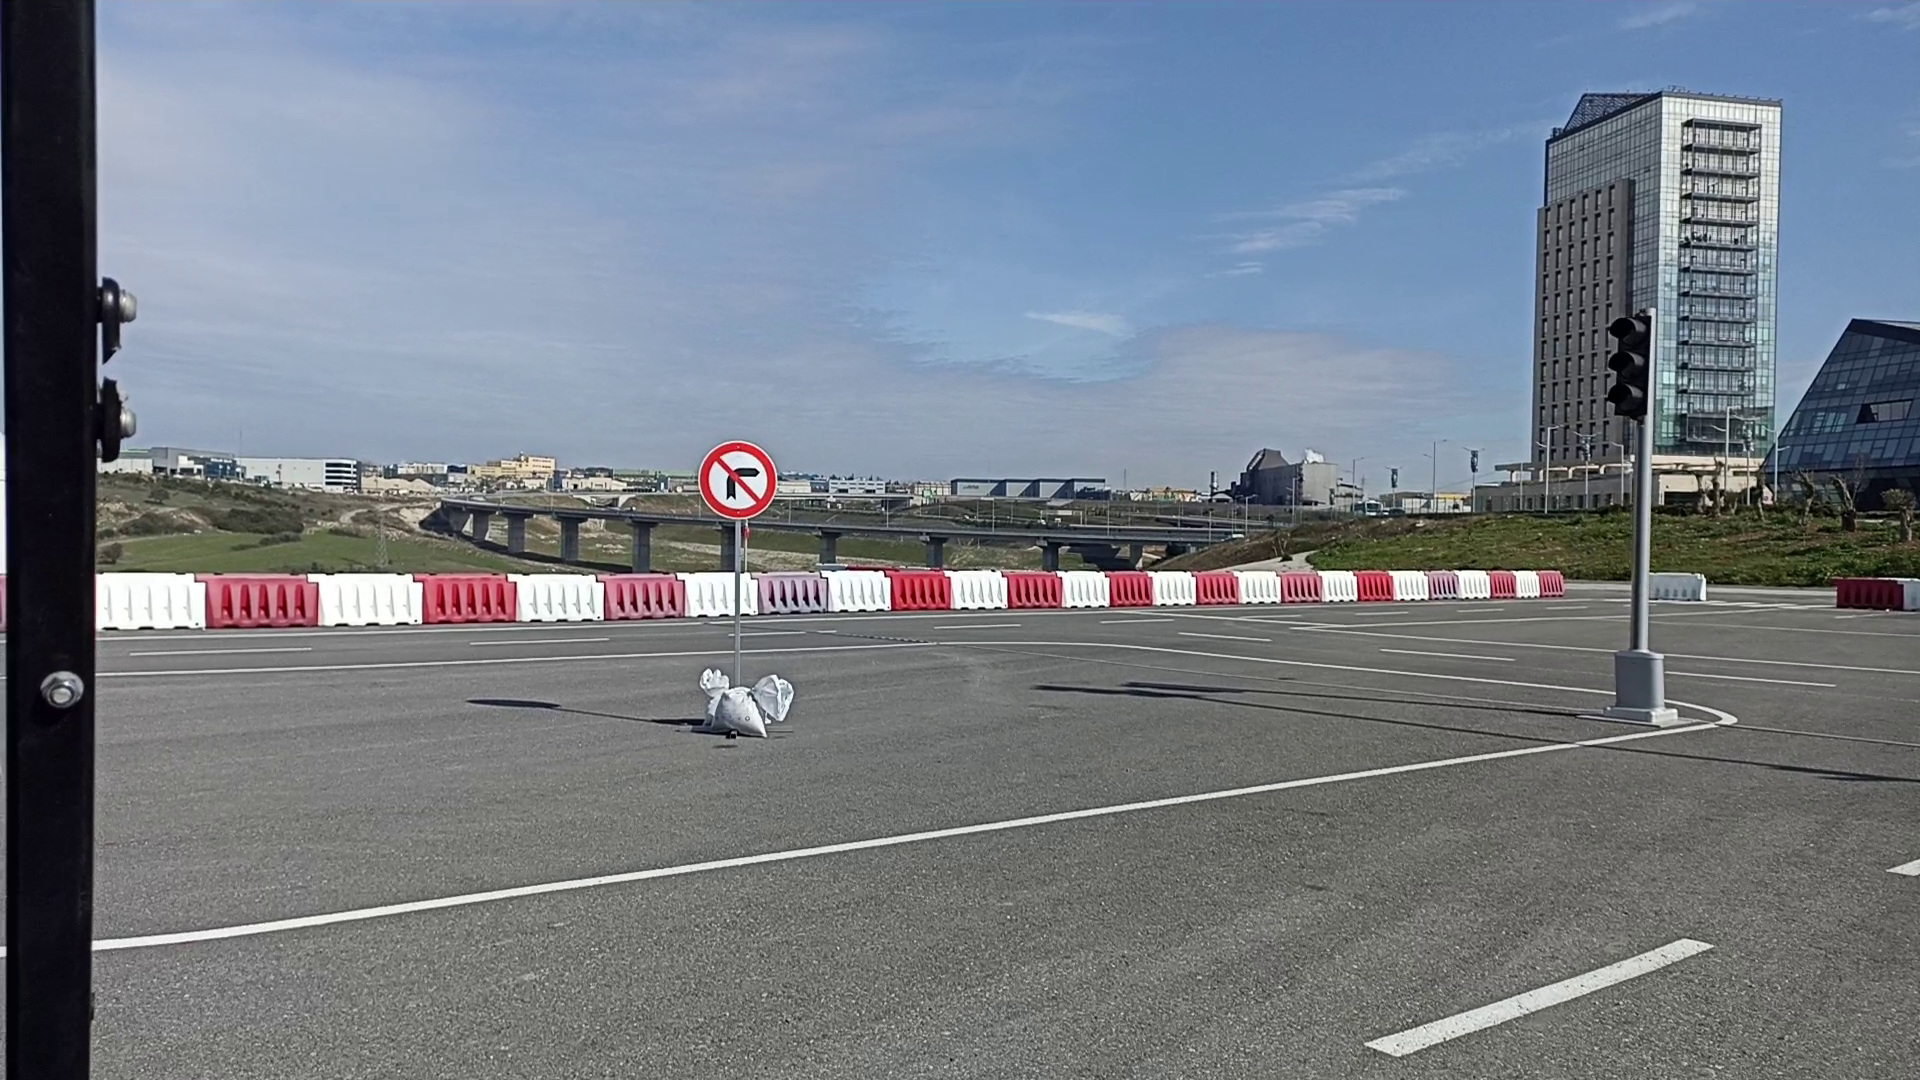noleftturn: (696, 438, 779, 524)
trafficlight: (1605, 306, 1656, 419)
